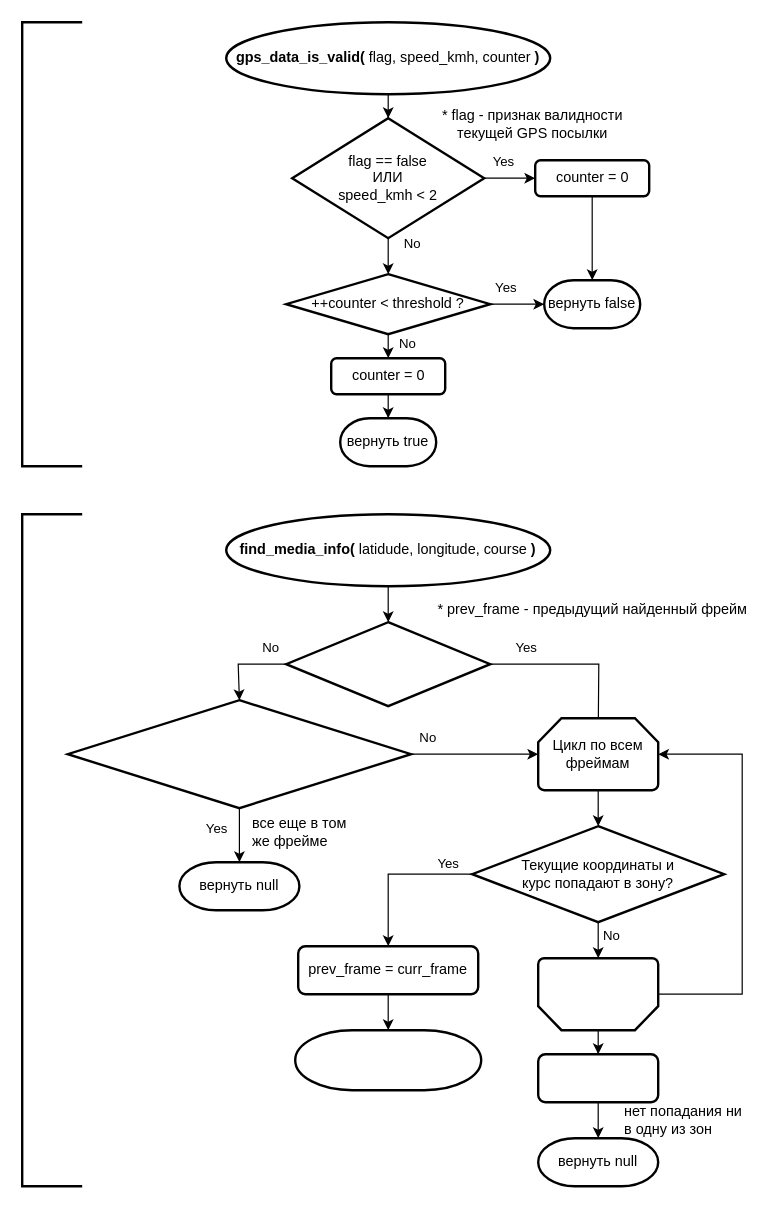
The diagram is 774 pixels wide and 1207 high, and some of its shapes have lost their labels. The box of each missing label's shape, as (x1, y1, x2, y2) in pixels:
prev_frame = null: (536, 1052, 659, 1103)
prev_frame == null ?: (284, 620, 491, 707)
вернуть curr_frame.media_info: (293, 1028, 482, 1091)
Взять следующий фрейм: (536, 956, 659, 1031)
Зона предыдущего фрейма содержит текущие координаты и курс?: (66, 698, 412, 809)
Метод выбора медиа-данных в зависимости от попадания в зону фрейма: (20, 512, 83, 1187)
Метод определения валидности данных GPS: (20, 20, 83, 467)
